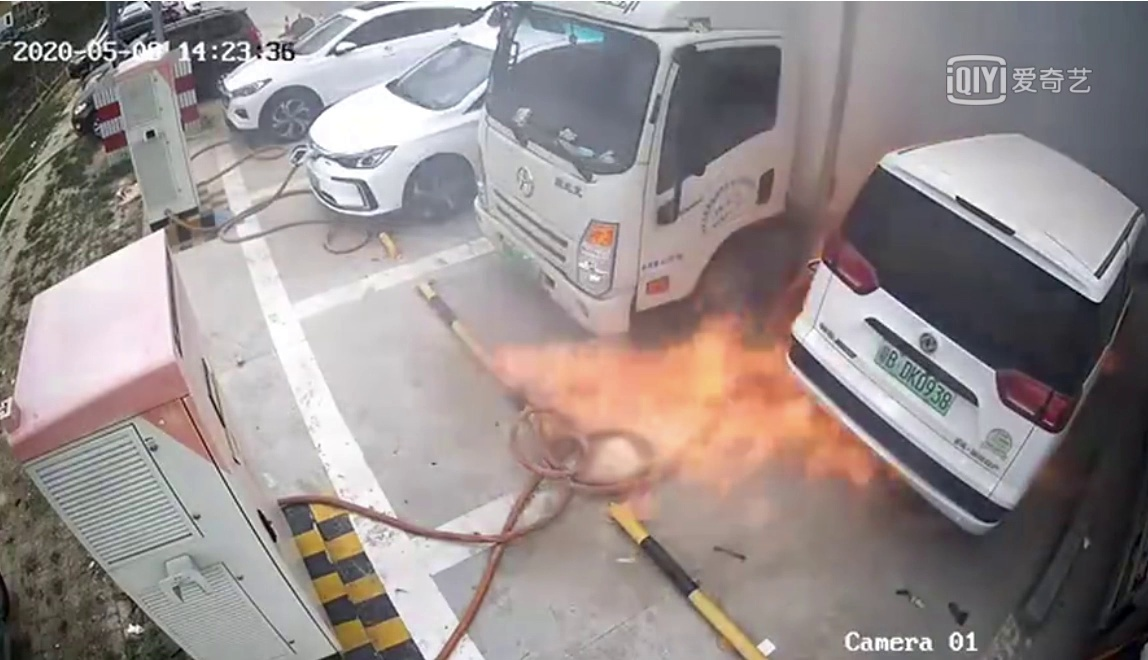fire: (512, 313, 840, 489)
